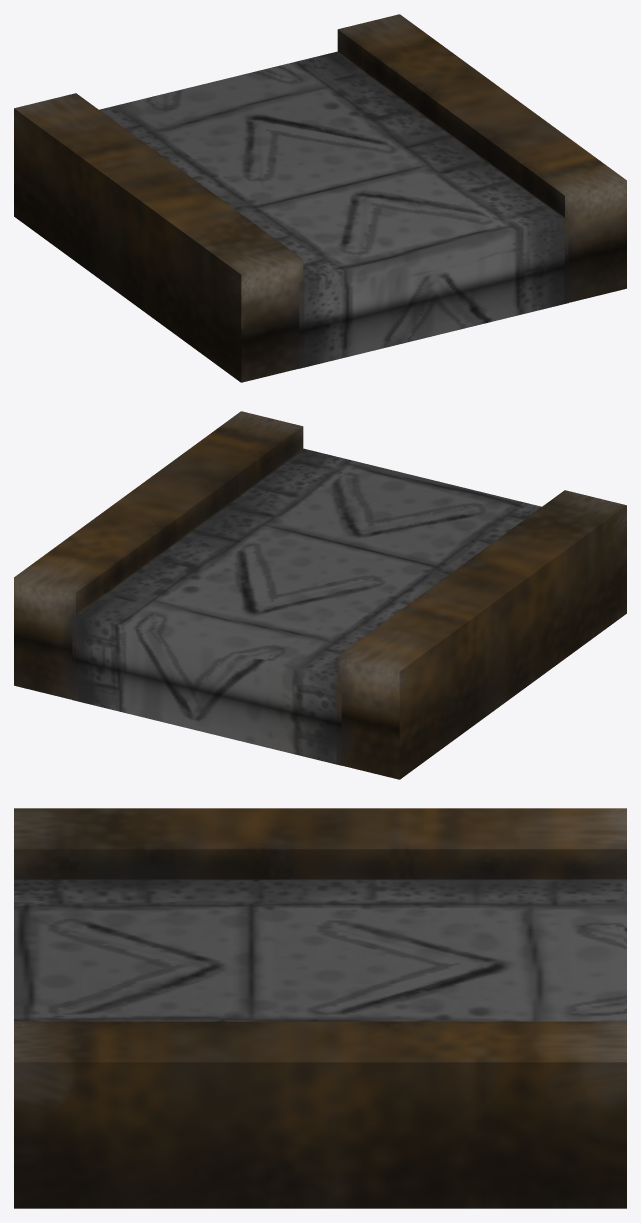
The model's file is Conveyor.glb.
3 views of the same model, one above another, from view 1: azimuth 30°, elevation 25°; view 2: azimuth 150°, elevation 25°; view 3: azimuth 270°, elevation 25° (orthographic). The views are drawn at different scales.
Parts seen in each view (by area): view 1: Cube, Cube.001, Cube.003; view 2: Cube, Cube.001, Cube.003; view 3: Cube.003, Cube, Cube.001.
Boxes of the visible parts, x1,y1,x2,y2 form: Cube: [99, 51, 568, 368]; Cube.001: [14, 93, 303, 382]; Cube.003: [337, 14, 626, 303]; Cube: [72, 448, 541, 765]; Cube.001: [337, 490, 626, 779]; Cube.003: [14, 411, 303, 700]; Cube.003: [14, 1021, 626, 1208]; Cube: [14, 879, 626, 1021]; Cube.001: [14, 808, 626, 879].
Size of the model in its own units: 0.9804 by 0.2633 by 1.
Materials: 2 (2 with a texture image).
